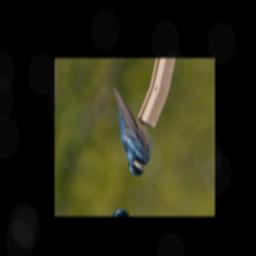Swallow: (91, 84, 167, 182)
